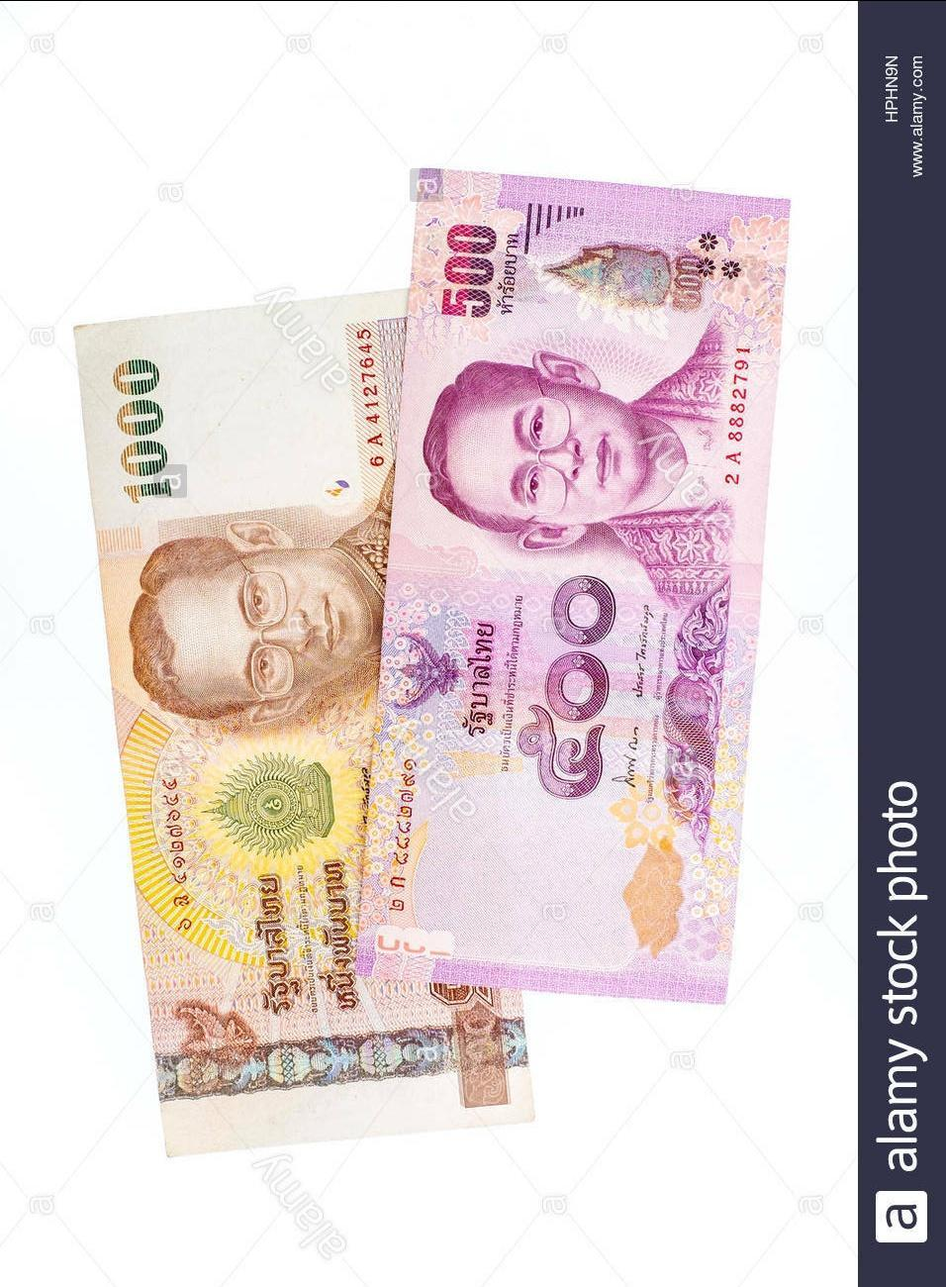500BahtTai: (347, 154, 790, 986)
